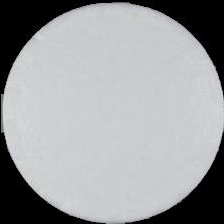59762-0542: (0, 0, 224, 224)
